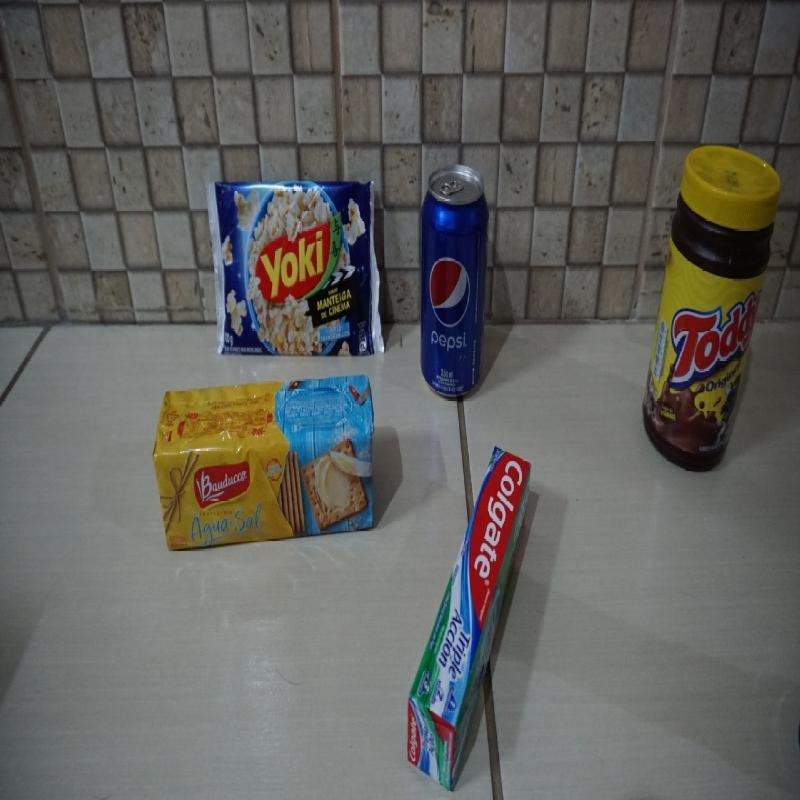Chocolate Powder: (637, 142, 780, 476)
Cracker: (152, 373, 380, 555)
Popcorn: (201, 172, 386, 358)
Soda can: (414, 162, 490, 396)
Toothpaste: (405, 445, 533, 790)
